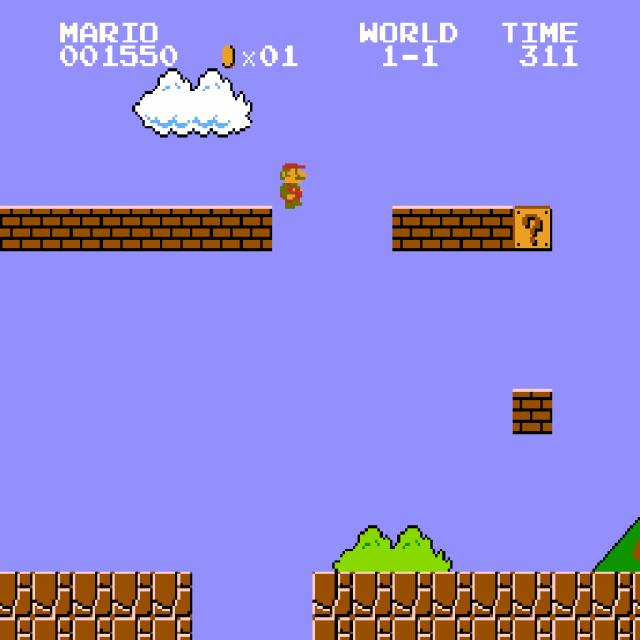brick_block: (32, 206, 73, 251), (72, 206, 113, 251), (112, 206, 153, 251), (152, 206, 193, 251), (192, 206, 233, 251), (232, 206, 273, 251), (392, 206, 433, 251), (432, 206, 473, 251), (472, 206, 513, 251), (512, 389, 553, 434), (0, 205, 32, 251)
goomba: (627, 526, 640, 574)
little_mario: (270, 160, 312, 208)
mystery_block: (512, 206, 553, 251)
undestructible_block: (32, 572, 73, 617), (72, 572, 113, 617), (112, 572, 153, 617), (152, 572, 193, 617), (312, 572, 353, 617), (352, 572, 393, 617), (392, 572, 433, 617), (432, 572, 473, 617), (472, 572, 513, 617), (512, 572, 553, 617), (552, 572, 593, 617), (592, 572, 633, 617), (0, 571, 32, 617), (32, 617, 73, 640), (72, 617, 113, 640), (112, 617, 153, 640), (152, 617, 193, 640), (312, 617, 353, 640), (352, 617, 393, 640), (392, 617, 433, 640), (432, 617, 473, 640), (472, 617, 513, 640), (512, 617, 553, 640), (552, 617, 593, 640), (592, 617, 633, 640), (0, 617, 32, 639), (633, 572, 640, 617), (633, 617, 640, 640)
